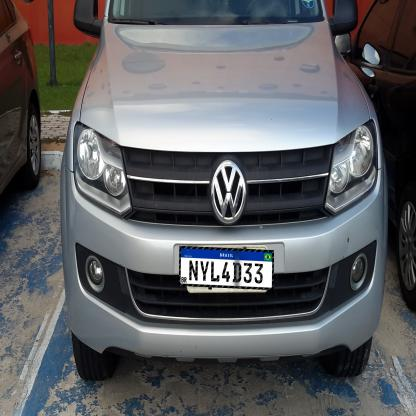PlacaM: (179, 246, 274, 290)
